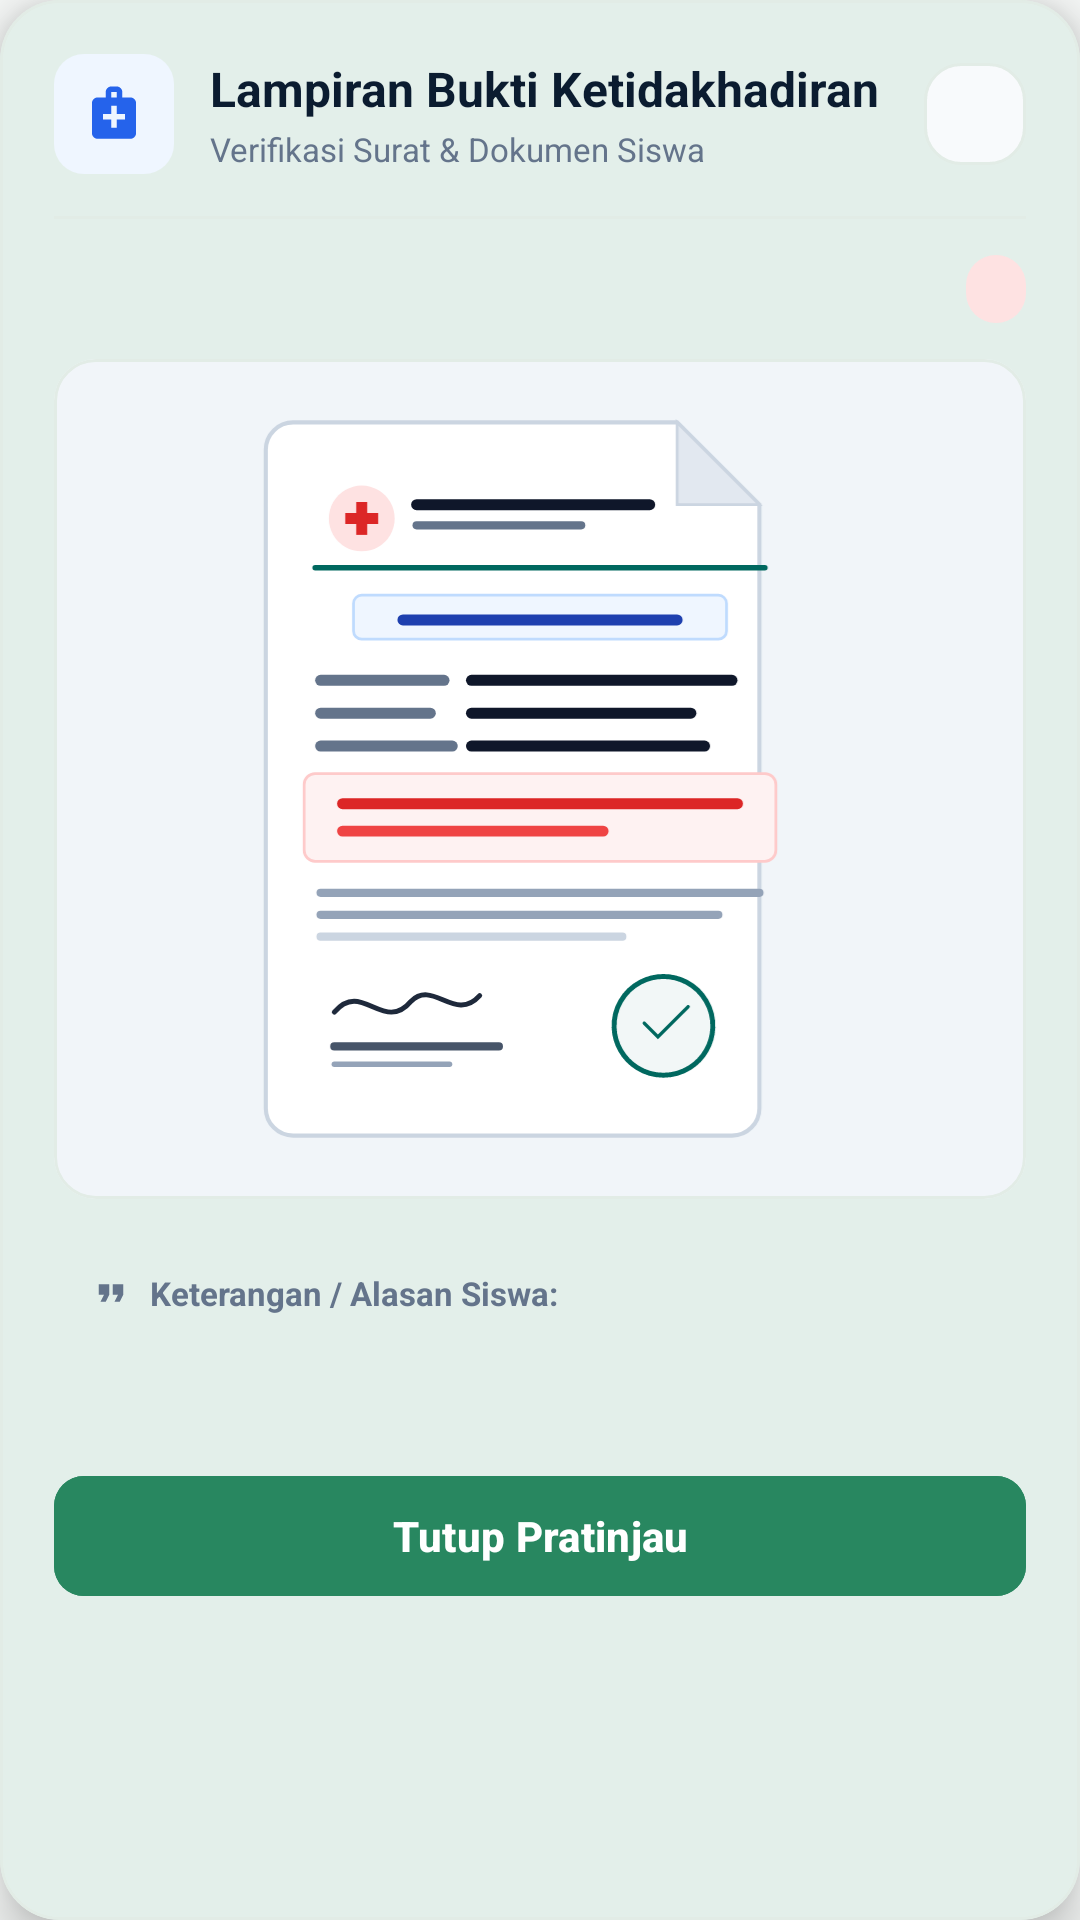

Icon bounding boxes for this 1080w x 1920h phone screenshot, format (x1, y1, x2, y2):
Kutipan: (98, 1284, 124, 1302)
